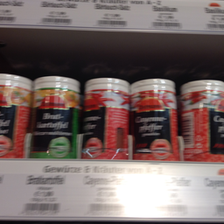spices: (28, 76, 81, 157), (129, 78, 180, 161), (82, 76, 131, 160), (179, 80, 224, 160), (1, 73, 32, 157)
